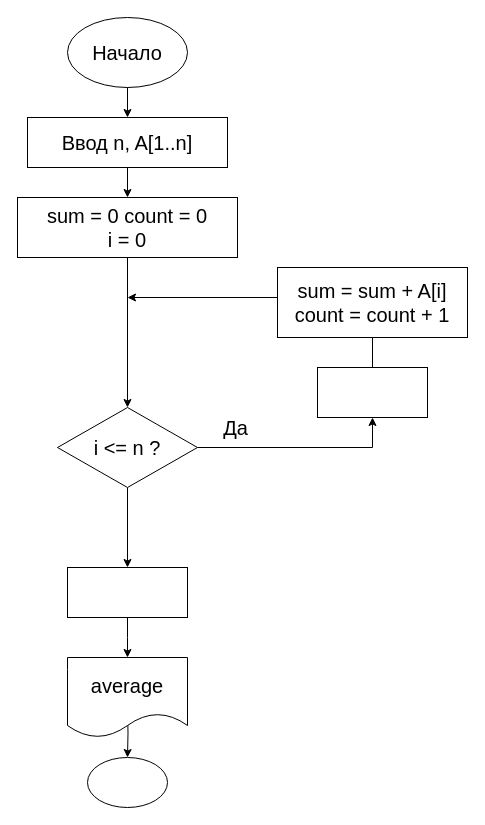
This 485x825 diagram has some shape labels left out. The shapes that lost their labels are listed below. From the top down, each one's box as (x1, y1, x2, y2) in pixels, then its label:
(316, 366, 428, 418): i = i + 2
(66, 566, 188, 618): average = sum / count
(86, 756, 168, 808): Конец
